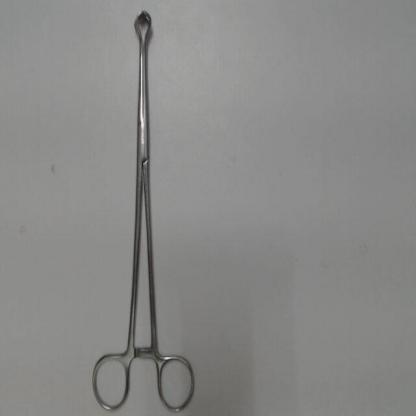8 Babcock Tissue Forceps: (86, 1, 201, 413)
